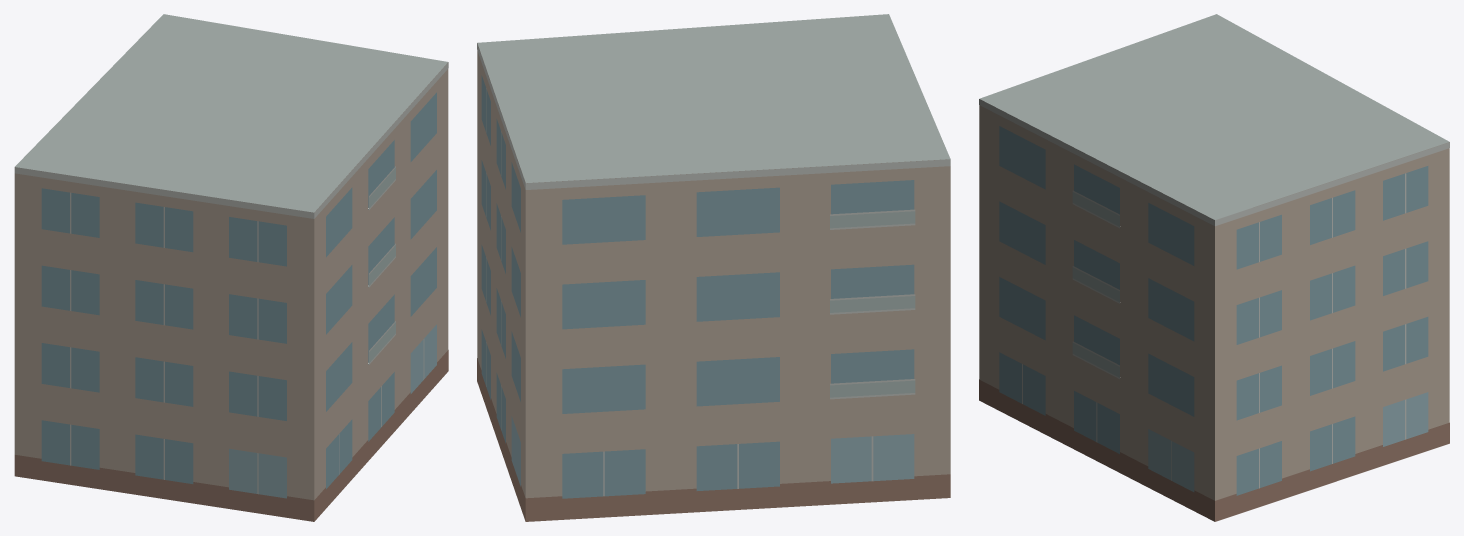
The model's file is survey-upis-32650249.glb.
The picture shows the model from 3 angles, left to right: view 1: azimuth 30°, elevation 25°; view 2: azimuth 150°, elevation 25°; view 3: azimuth 270°, elevation 25°; orthographic projection. The views are drawn at different scales.
Parts seen in each view (by area): view 1: survey-upis-32650249.tmp; view 2: survey-upis-32650249.tmp; view 3: survey-upis-32650249.tmp.
Boxes of the visible parts, left/top/right/bottom form: survey-upis-32650249.tmp: left=14, top=14, right=448, bottom=521; survey-upis-32650249.tmp: left=477, top=14, right=950, bottom=521; survey-upis-32650249.tmp: left=979, top=14, right=1449, bottom=521.
Bounding box in the file's own units: 17.37 × 11.85 × 16.76.
